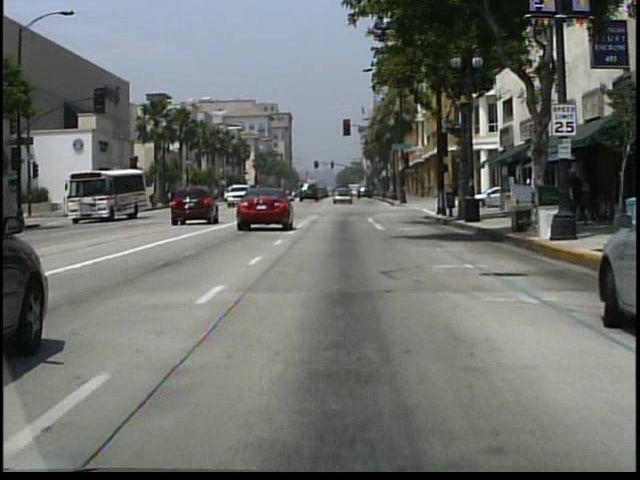person: (68, 195, 73, 217)
